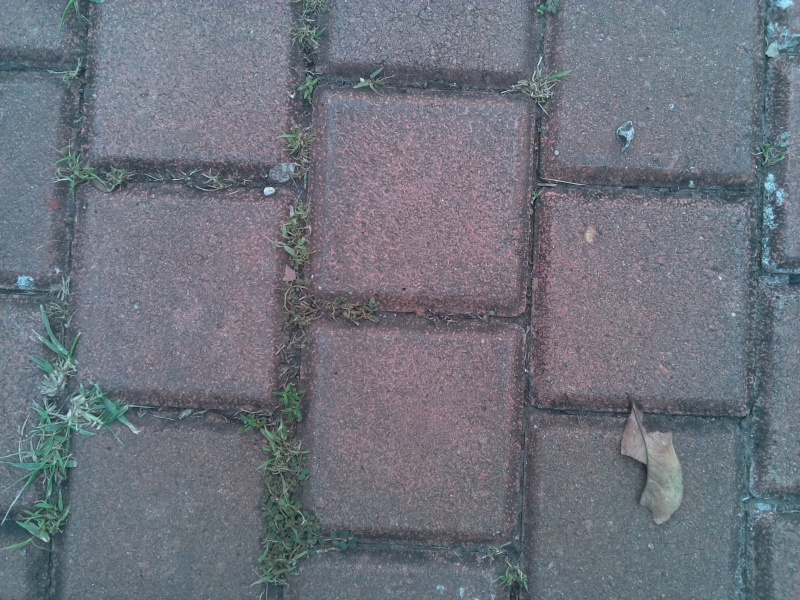Weed: (275, 278, 389, 335), (258, 472, 305, 590), (245, 386, 308, 474), (21, 411, 77, 493), (26, 315, 79, 401), (48, 386, 134, 436), (506, 55, 566, 115), (278, 196, 320, 272), (12, 497, 66, 551), (281, 116, 319, 182), (55, 145, 100, 191), (488, 554, 534, 594), (349, 63, 390, 103), (45, 54, 91, 89), (749, 137, 786, 174), (101, 161, 135, 196), (293, 70, 323, 108)
